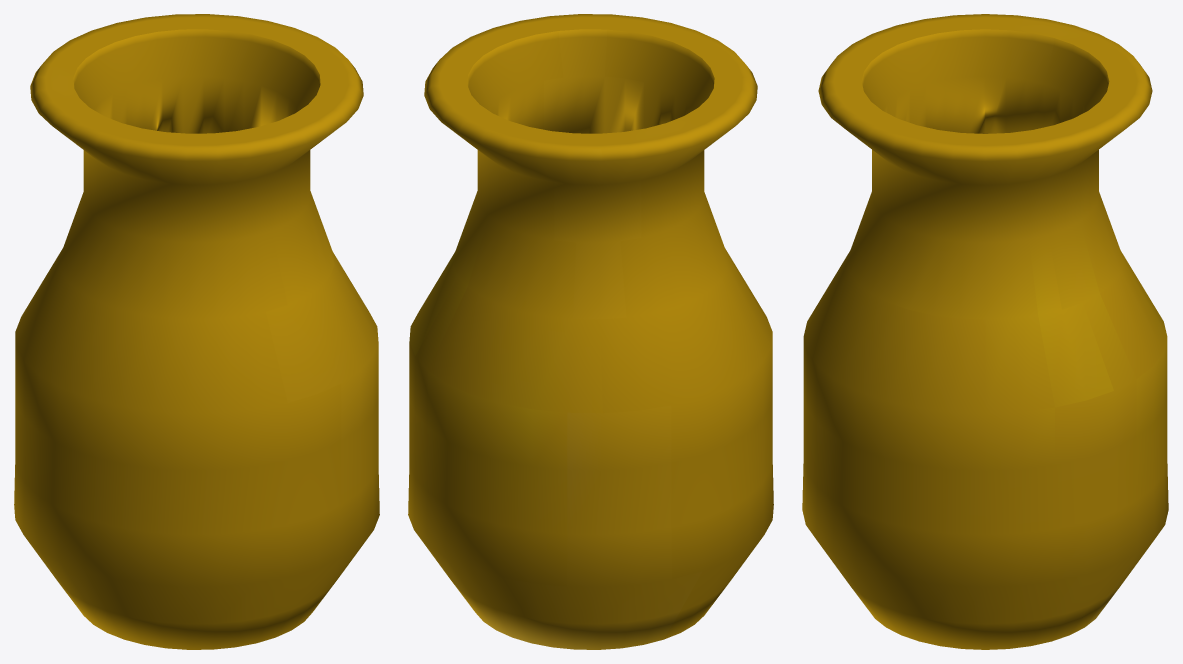
Rendered from treasure_vase.fbx.
3 views of the same model, side by side, from view 1: azimuth 30°, elevation 25°; view 2: azimuth 150°, elevation 25°; view 3: azimuth 270°, elevation 25° (orthographic).
Parts seen in each view (by area): view 1: Circle; view 2: Circle; view 3: Circle.
Part boxes in pixels (x1,y1,x2,y2): Circle: (14,14,379,649); Circle: (408,14,773,649); Circle: (802,14,1168,649).
Size of the model in its own units: 216 by 337 by 216.
